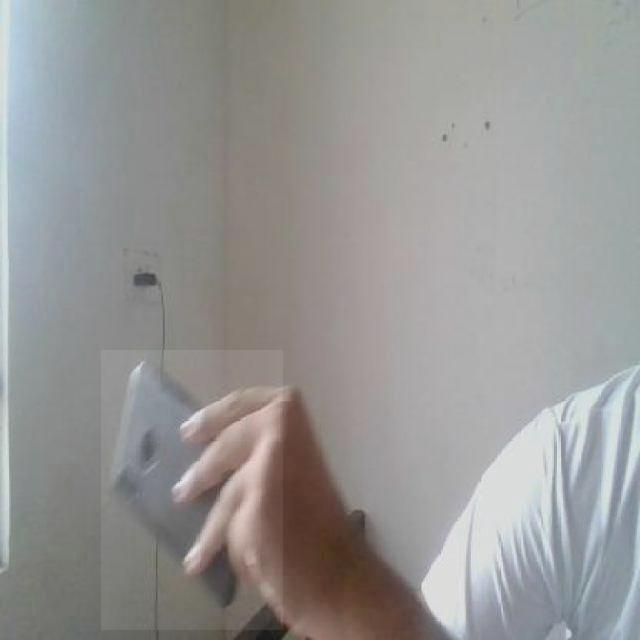lens: (118, 467, 150, 497)
phone: (102, 350, 284, 630)
